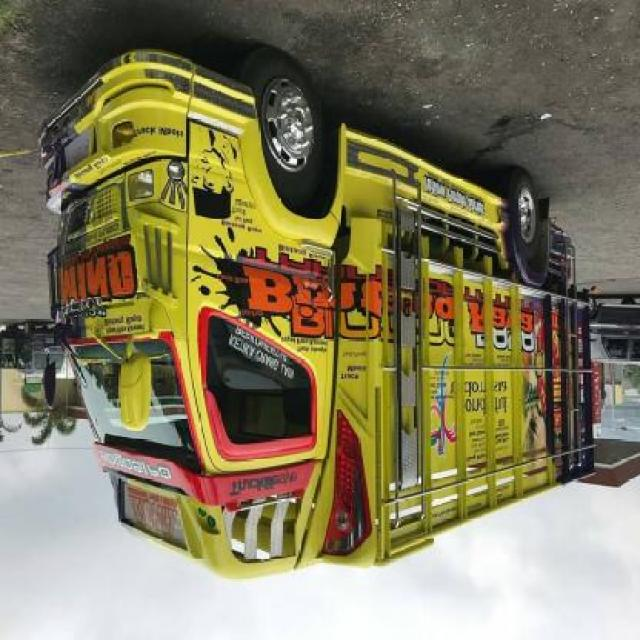truck: (39, 47, 596, 584)
